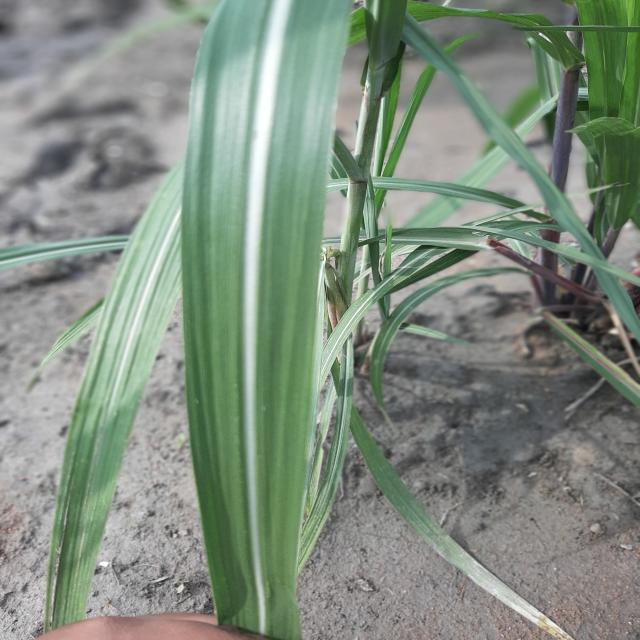Sugarcane: (17, 0, 638, 639)
